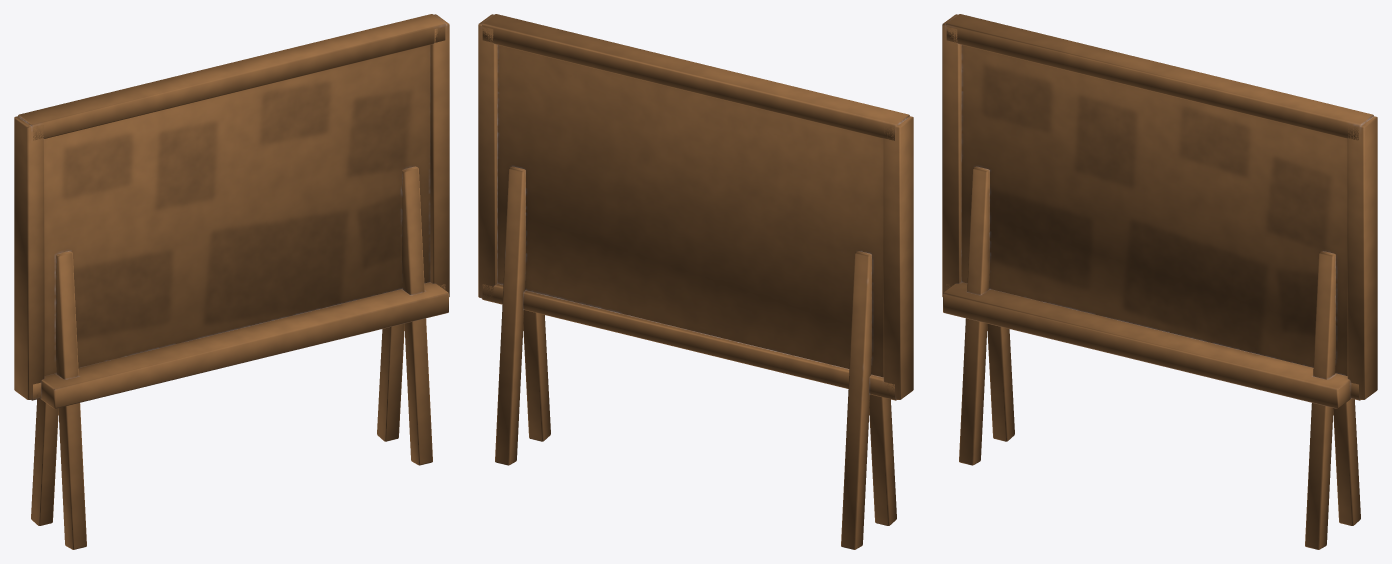
The model's file is Tablero_Golpes.fbx.
The picture shows the model from 3 angles, left to right: view 1: azimuth 30°, elevation 25°; view 2: azimuth 150°, elevation 25°; view 3: azimuth 330°, elevation 25°; orthographic projection.
Visible parts, largest first — view 1: Tablero_Golpes; view 2: Tablero_Golpes; view 3: Tablero_Golpes.
Part boxes in pixels (x1,y1,x2,y2): Tablero_Golpes: (14,14,449,549); Tablero_Golpes: (478,14,913,549); Tablero_Golpes: (942,14,1377,549).
Size of the model in its own units: 8.55 by 8.19 by 1.49.
